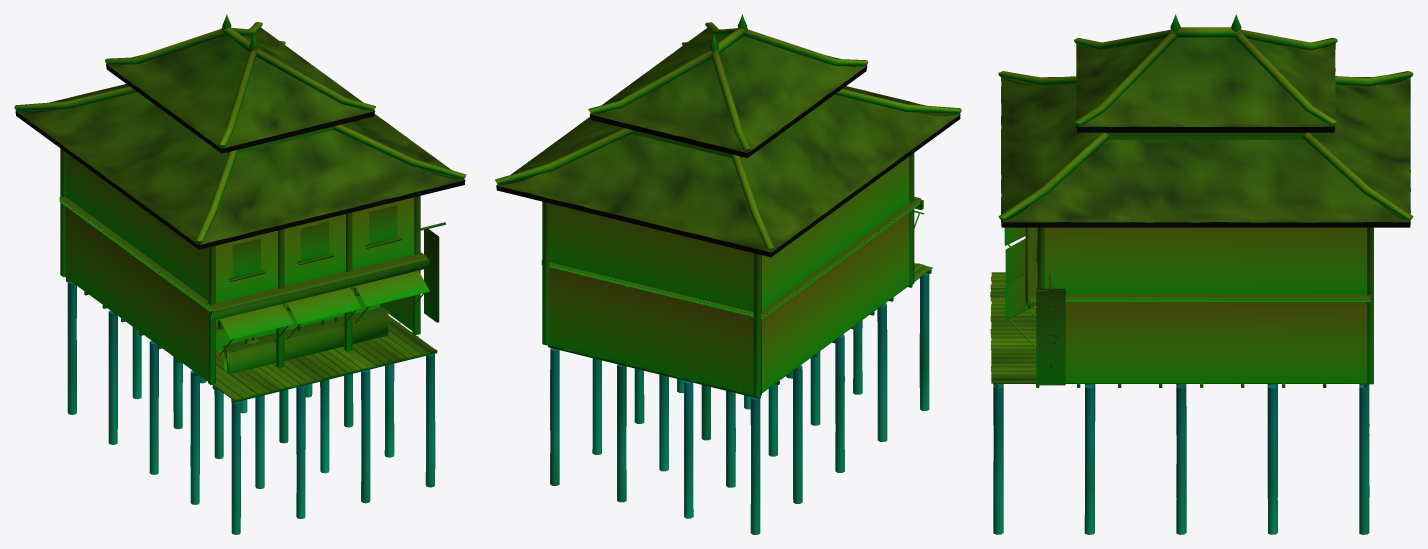
File: shophouse_a.glb
The picture shows the model from 3 angles, left to right: view 1: azimuth 30°, elevation 25°; view 2: azimuth 150°, elevation 25°; view 3: azimuth 270°, elevation 25°; orthographic projection. The views are drawn at different scales.
Parts seen in each view (by area): view 1: shophouse_a; view 2: shophouse_a; view 3: shophouse_a.
Boxes of the visible parts, x1,y1,x2,y2 form: shophouse_a: (14, 14, 466, 534); shophouse_a: (495, 14, 961, 534); shophouse_a: (990, 14, 1413, 534).
Size of what is drawn, in the model's own units: 10.6 by 15.6 by 12.84.
